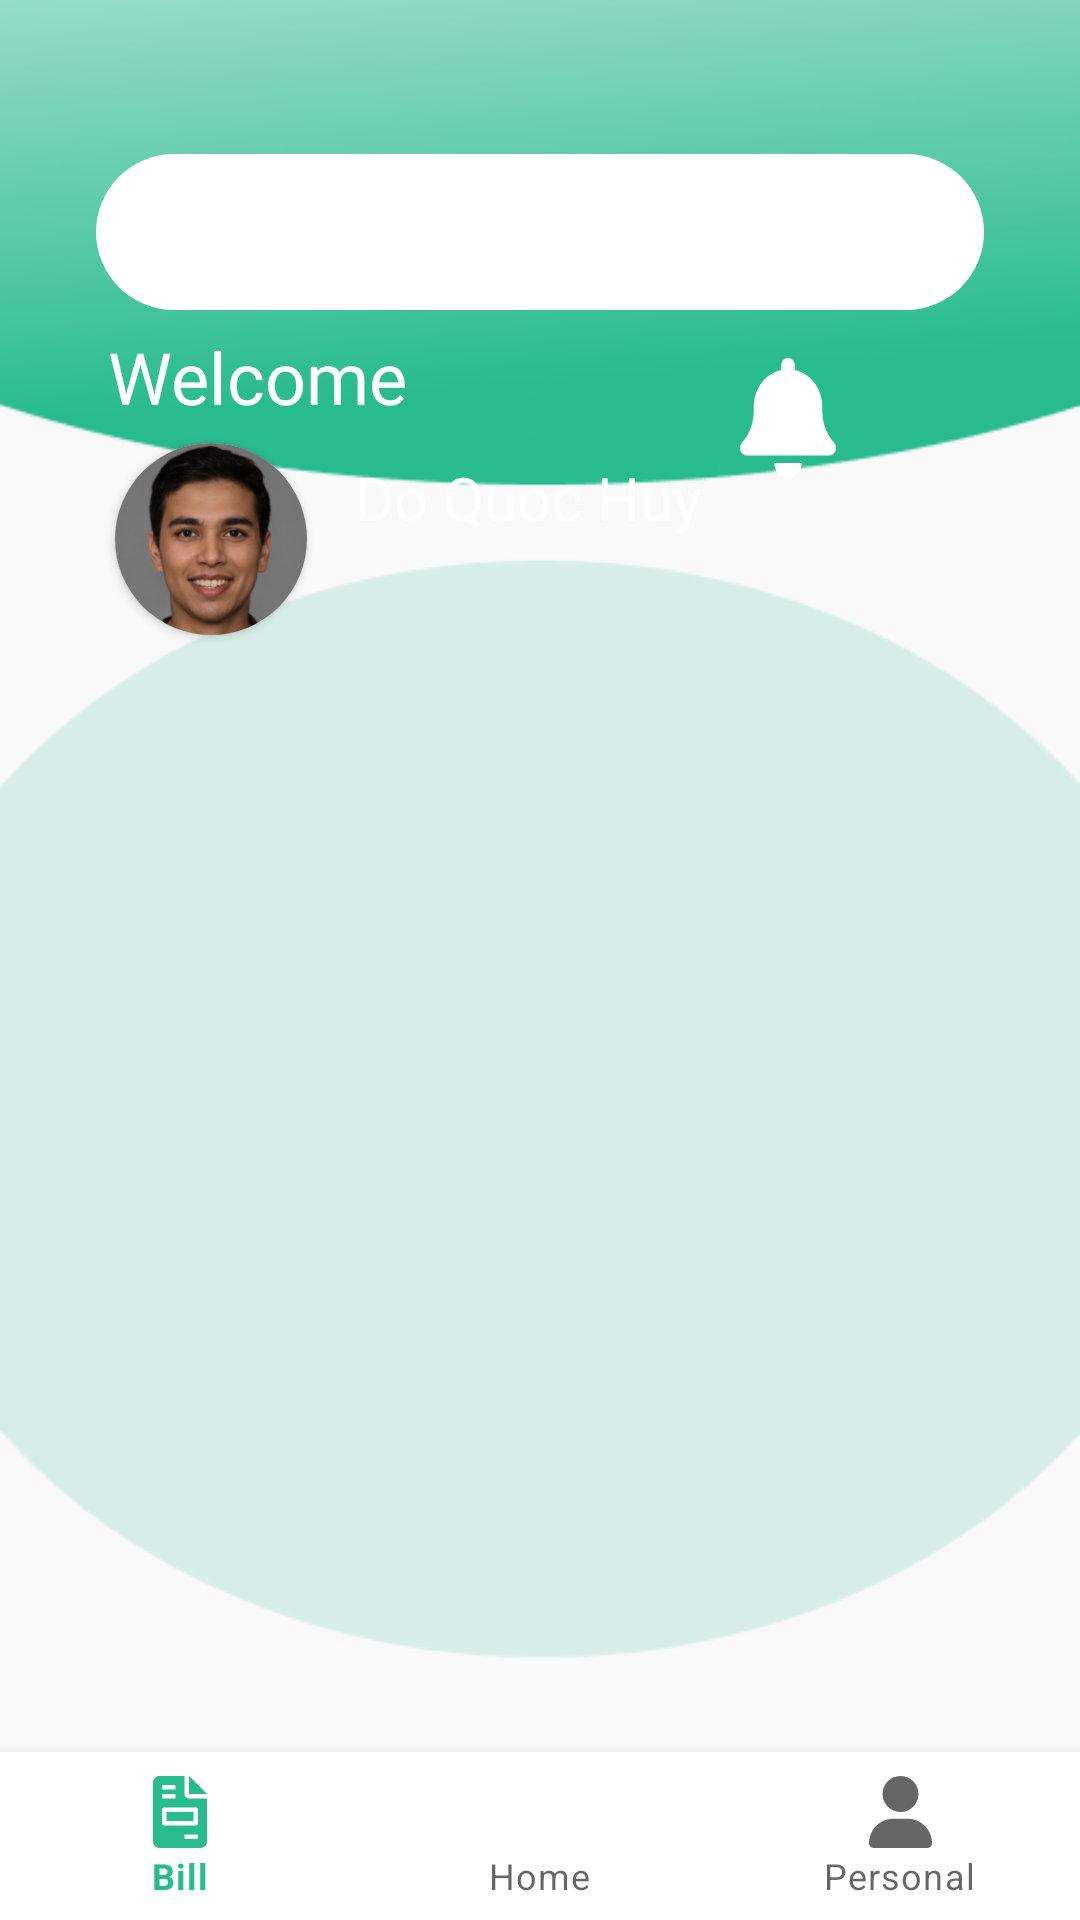

Screen size 1080px×1920px. Icon name, then its center in pixels as point (x, y):
bell: point (788, 407)
